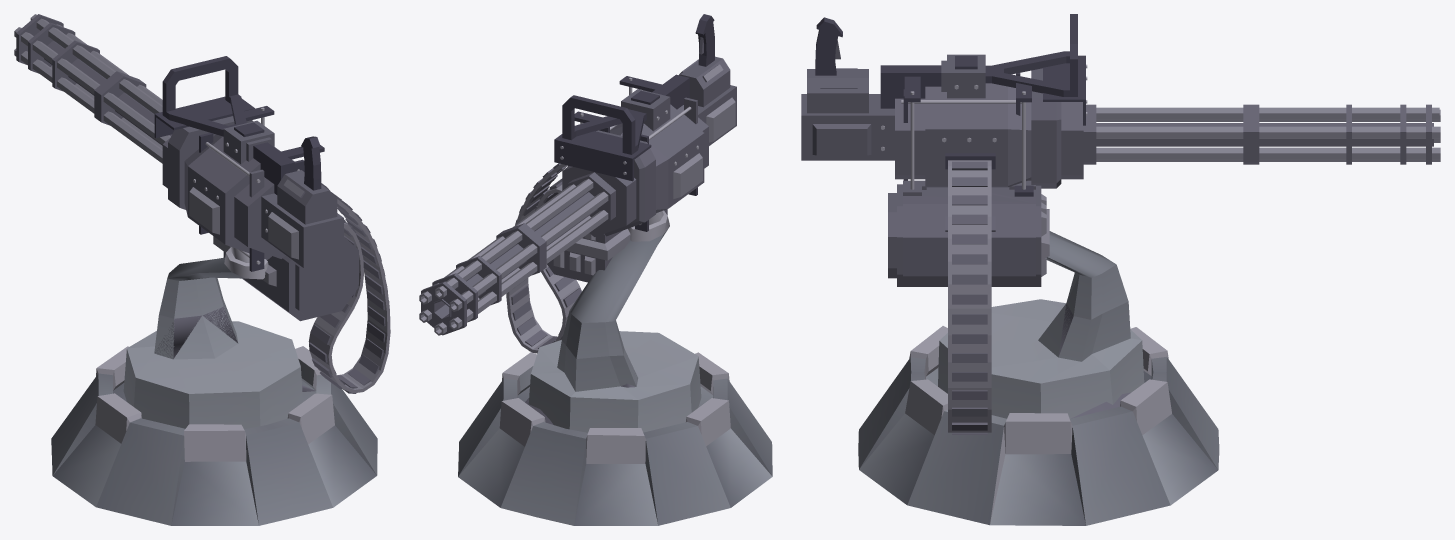
The model's file is Breakable_Gun_04.fbx.
The picture shows the model from 3 angles, left to right: view 1: azimuth 30°, elevation 25°; view 2: azimuth 150°, elevation 25°; view 3: azimuth 270°, elevation 25°; orthographic projection. The views are drawn at different scales.
Visible parts, largest first — view 1: polySurface230, polySurface328, polySurface232, polySurface255, polySurface254, polySurface292, polySurface351, polySurface299, polySurface298, polySurface288, polySurface263, polySurface348 (+9 smaller); view 2: polySurface232, polySurface230, polySurface292, polySurface351, polySurface254, polySurface328, polySurface231, polySurface263, polySurface255, polySurface348, polySurface352, polySurface349 (+9 smaller); view 3: polySurface232, polySurface230, polySurface328, polySurface254, polySurface252, polySurface351, polySurface299, polySurface263, polySurface354, polySurface350, polySurface352, polySurface292 (+7 smaller).
Boxes of the visible parts, x1,y1,x2,y2 form: polySurface230: [51, 307, 377, 525]; polySurface328: [308, 191, 390, 393]; polySurface232: [96, 277, 320, 391]; polySurface255: [213, 236, 358, 321]; polySurface254: [184, 134, 294, 259]; polySurface292: [154, 56, 254, 138]; polySurface351: [16, 14, 171, 145]; polySurface299: [261, 193, 343, 267]; polySurface298: [234, 142, 294, 258]; polySurface288: [277, 170, 337, 224]; polySurface263: [162, 116, 252, 209]; polySurface348: [14, 27, 170, 144]; polySurface232: [458, 310, 658, 525]; polySurface230: [525, 331, 772, 525]; polySurface292: [554, 95, 651, 181]; polySurface351: [421, 172, 615, 335]; polySurface254: [610, 104, 704, 212]; polySurface328: [506, 163, 581, 353]; polySurface231: [570, 228, 668, 322]; polySurface263: [562, 130, 655, 236]; polySurface255: [547, 209, 667, 282]; polySurface348: [449, 191, 608, 311]; polySurface352: [435, 179, 593, 298]; polySurface349: [449, 210, 608, 330]; polySurface232: [990, 264, 1219, 525]; polySurface230: [858, 299, 1130, 525]; polySurface328: [945, 160, 995, 434]; polySurface254: [925, 83, 1031, 187]; polySurface252: [903, 180, 1035, 276]; polySurface351: [1083, 104, 1433, 164]; polySurface299: [801, 94, 894, 160]; polySurface263: [1031, 68, 1083, 188]; polySurface354: [1096, 126, 1440, 138]; polySurface350: [1096, 147, 1440, 159]; polySurface352: [1096, 107, 1439, 119]; polySurface292: [985, 14, 1087, 125].
Size of the model in its own units: 147 by 194 by 261.
Materials: 3 (3 with a texture image).
